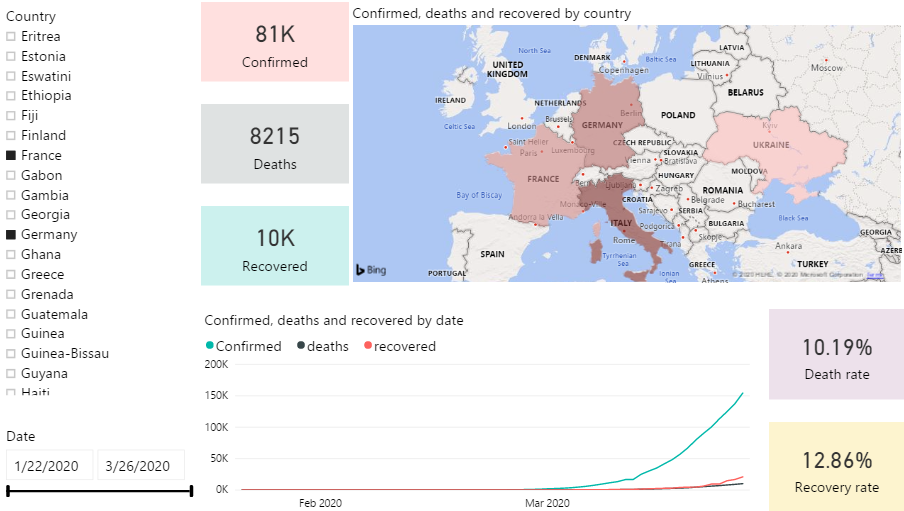

The page's visual inventory and layout, read from the dashboard file:
{"tool":"powerbi","page":{"name":"Page 1","canvas":[1280,720],"ordinal":0},"visuals":[{"type":"filledMap","fields":{"Category":["timeseries[1].Name"],"Size":["Max(timeseries[1].Value.confirmed)"]},"box":[496,0,784,400],"z":1},{"type":"slicer","fields":{"Values":["timeseries[1].Name"]},"box":[0,0,288,560],"z":2},{"type":"card","fields":{"Values":["Max(timeseries[1].Value.confirmed)"]},"box":[288,0,208,112],"z":4},{"type":"card","fields":{"Values":["Max(timeseries[1].Value.deaths)"]},"box":[288,144,208,112],"z":4},{"type":"card","fields":{"Values":["Max(timeseries[1].Value.recovered)"]},"box":[288,288,208,112],"z":5},{"type":"card","fields":{"Values":["timeseries[1].CFRM"]},"box":[1088,432,192,128],"z":7},{"type":"lineChart","fields":{"Category":["timeseries[1].Value.date"],"Y":["Sum(timeseries[1].Value.confirmed)","Sum(timeseries[1].Value.deaths)","Sum(timeseries[1].Value.recovered)"]},"box":[288,432,800,288],"z":8},{"type":"card","fields":{"Values":["COVID-2019_Data.RR"]},"box":[1088,592,192,128],"z":8},{"type":"slicer","fields":{"Values":["COVID-2019_Data.Value.date"]},"box":[0,592,288,128],"z":9}]}

Visuals, with their boxes in screenshot pixels (x1, y1, x2, y2), scaled from the page's 1280x720 canvas onto the 904x511 screenshot:
filledMap - timeseries[1].Name x Max(timeseries[1].Value.confirmed): 350, 0, 903, 284
slicer - timeseries[1].Name: 0, 0, 203, 397
card - Max(timeseries[1].Value.confirmed): 203, 0, 350, 79
card - Max(timeseries[1].Value.deaths): 203, 102, 350, 182
card - Max(timeseries[1].Value.recovered): 203, 204, 350, 284
card - timeseries[1].CFRM: 768, 307, 903, 397
lineChart - timeseries[1].Value.date x Sum(timeseries[1].Value.confirmed): 203, 307, 768, 510
card - COVID-2019_Data.RR: 768, 420, 903, 510
slicer - COVID-2019_Data.Value.date: 0, 420, 203, 510
